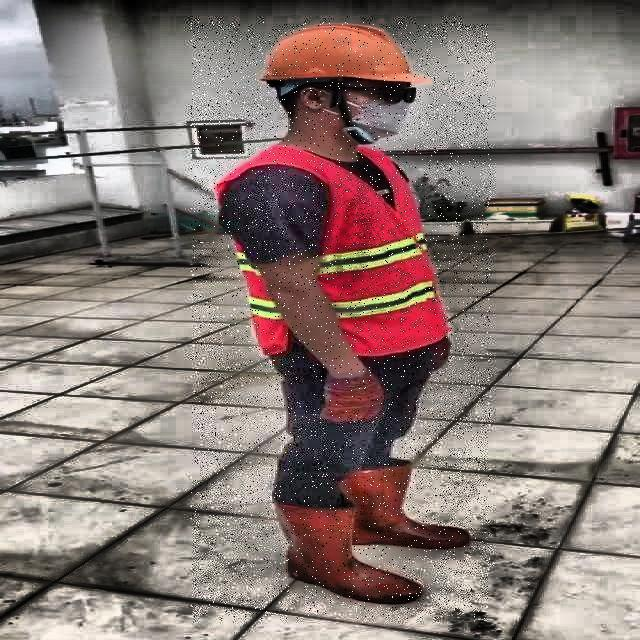safety_helmet: (241, 23, 426, 90)
safety_jacket: (208, 143, 446, 354)
